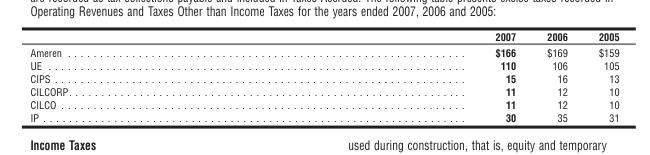table: (29, 29, 618, 123)
table column: (29, 29, 282, 123), (282, 29, 530, 123), (530, 29, 582, 123), (582, 29, 618, 123)
table column header: (29, 29, 618, 44)
table row: (29, 29, 618, 44), (29, 44, 618, 58), (29, 58, 618, 71), (29, 71, 618, 84), (29, 84, 618, 97), (29, 97, 618, 110), (29, 110, 618, 123)
